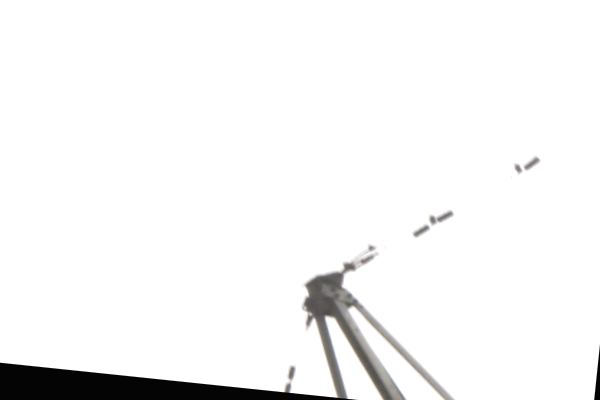damper: (412, 209, 455, 239)
damper_defect: (510, 156, 541, 179)
